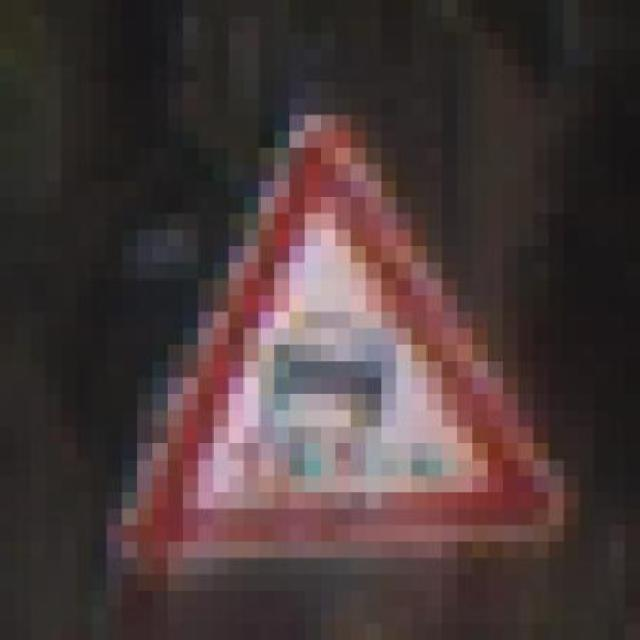Slippery Road Ahead: (107, 98, 579, 591)
